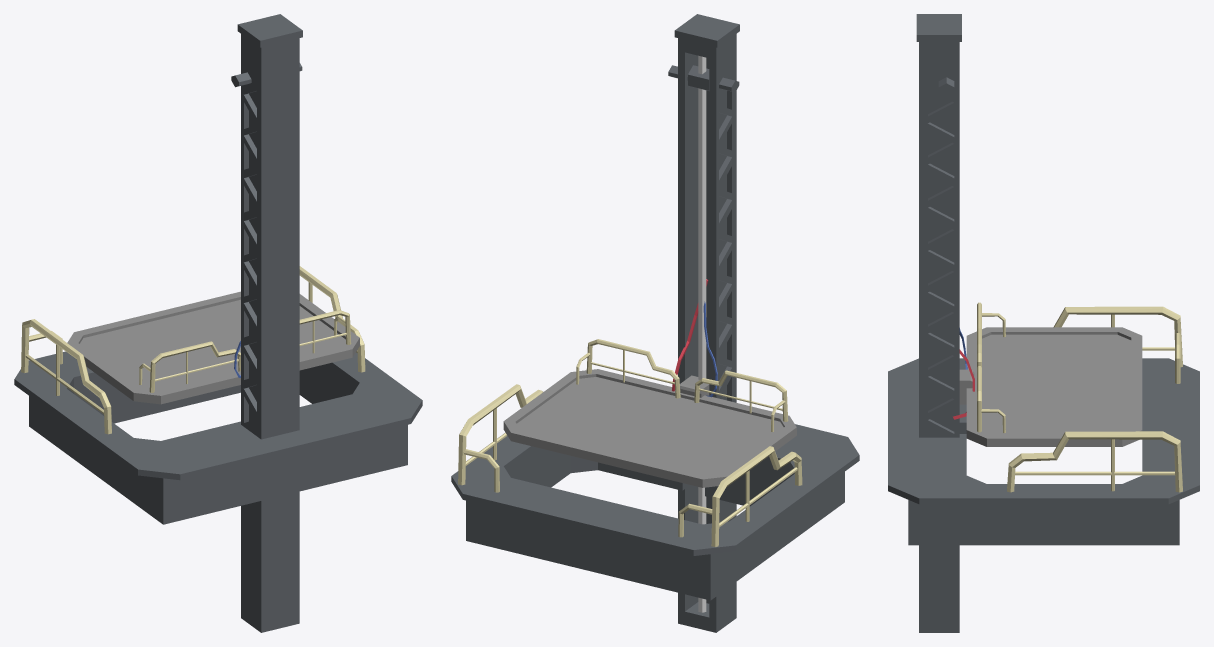
3 views of the same model, side by side, from view 1: azimuth 30°, elevation 25°; view 2: azimuth 150°, elevation 25°; view 3: azimuth 270°, elevation 25° (orthographic).
Visible parts, largest first — view 1: 立方体.002, 立方体.001, 平面.001; view 2: 立方体.002, 立方体.001, 平面.001; view 3: 立方体.002, 立方体.001, 平面.001.
Part boxes in pixels (x1,y1,x2,y2): 立方体.002: [14, 266, 422, 524]; 立方体.001: [231, 14, 302, 632]; 平面.001: [67, 291, 359, 404]; 立方体.002: [451, 384, 859, 600]; 立方体.001: [668, 14, 739, 632]; 平面.001: [503, 279, 796, 487]; 立方体.002: [888, 306, 1199, 545]; 立方体.001: [916, 14, 961, 632]; 平面.001: [953, 302, 1142, 446].
Size of the model in its own units: 355 by 378 by 753.
